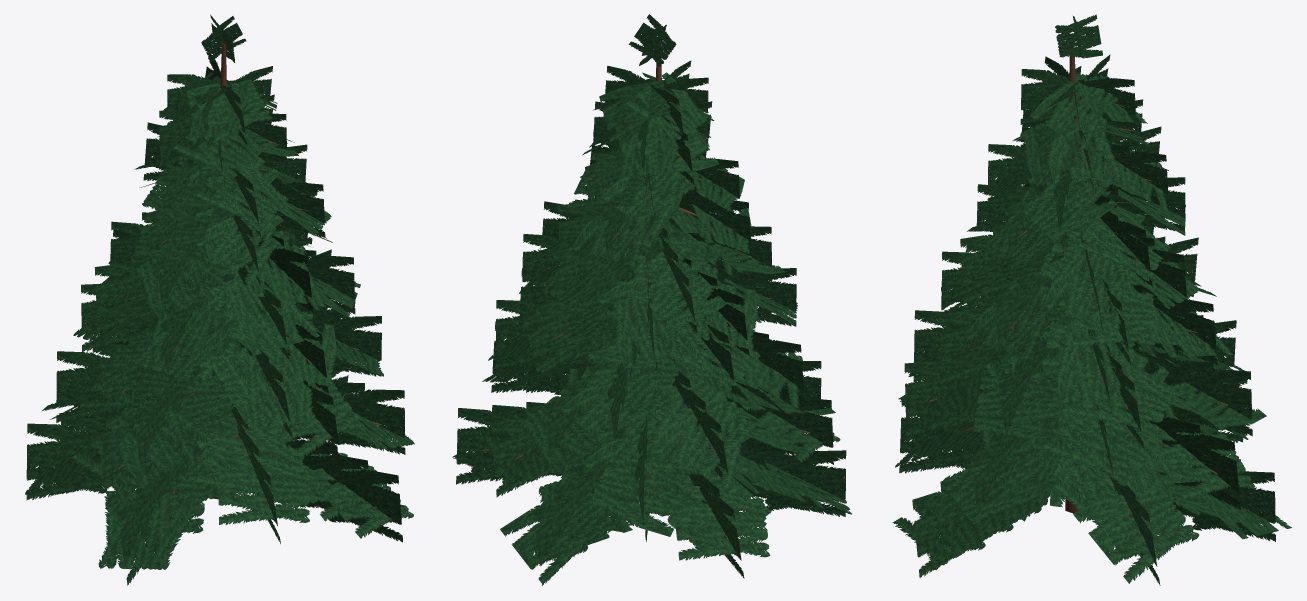
The model's file is spruce_1.glb.
3 views of the same model, side by side, from view 1: azimuth 30°, elevation 25°; view 2: azimuth 150°, elevation 25°; view 3: azimuth 270°, elevation 25° (orthographic). The views are drawn at different scales.
Visible parts, largest first — view 1: spruce_1Leaves, spruce_1Wood; view 2: spruce_1Leaves; view 3: spruce_1Leaves, spruce_1Wood.
Boxes of the visible parts, x1,y1,x2,y2 form: spruce_1Leaves: (25, 14, 414, 585); spruce_1Wood: (54, 42, 381, 508); spruce_1Leaves: (452, 14, 851, 585); spruce_1Leaves: (892, 14, 1291, 585); spruce_1Wood: (926, 42, 1246, 541).
Size of what is drawn, in the model's own units: 4.81 by 6.67 by 4.73.
Materials: 2 (2 with a texture image).
